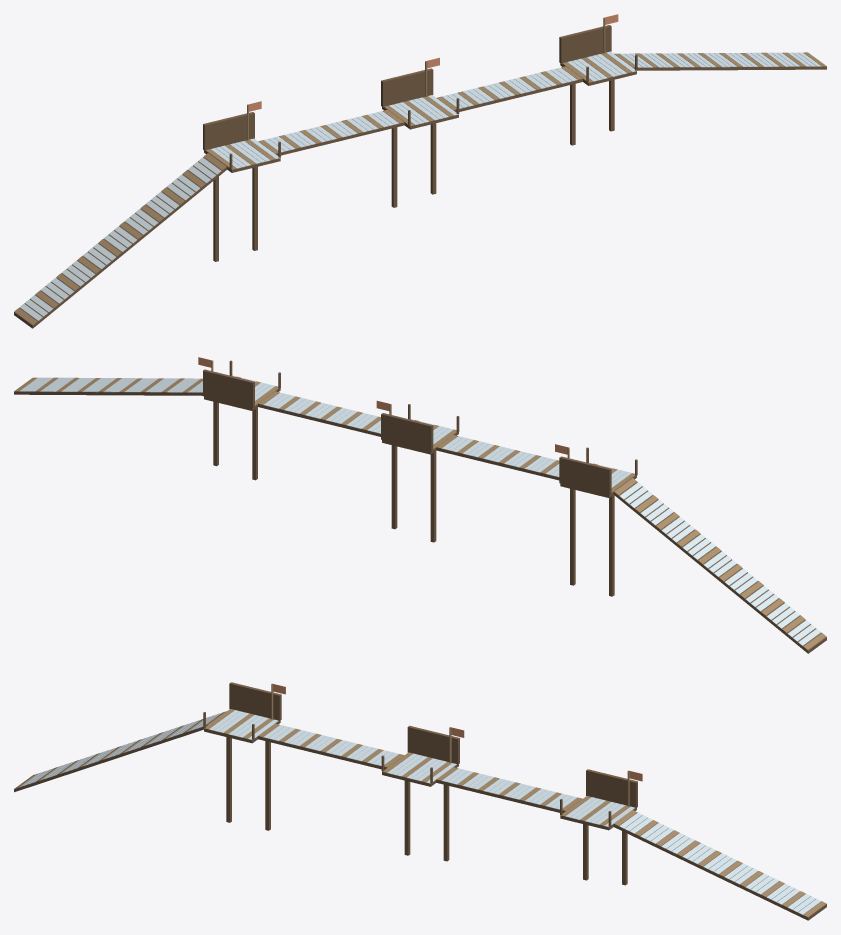
Rendered from wind_walkway.glb.
3 renders of one model, top to bottom at view 1: azimuth 30°, elevation 25°; view 2: azimuth 150°, elevation 25°; view 3: azimuth 330°, elevation 25°, orthographic.
Visible parts, largest first — view 1: EntryRamp, Windbreak_2, Windbreak_1, Windbreak_0, ExitRamp; view 2: EntryRamp, Windbreak_0, Windbreak_1, Windbreak_2, ExitRamp, Support_1_-1.2, Support_0_-1.2, Support_1_1.2, Support_0_1.2; view 3: Windbreak_0, Windbreak_1, Windbreak_2, ExitRamp, EntryRamp, Support_0_1.2, Support_1_1.2, Support_1_-1.2, Support_0_-1.2, SecondSpan, FirstSpan.
Boxes of the visible parts, x1,y1,x2,y2 form: EntryRamp: [14, 153, 227, 328]; Windbreak_2: [559, 25, 611, 63]; Windbreak_1: [381, 68, 433, 107]; Windbreak_0: [203, 112, 254, 150]; ExitRamp: [633, 66, 826, 70]; EntryRamp: [613, 478, 826, 653]; Windbreak_0: [559, 456, 611, 495]; Windbreak_1: [381, 413, 433, 451]; Windbreak_2: [203, 369, 254, 408]; ExitRamp: [14, 391, 202, 395]; Support_1_-1.2: [430, 451, 436, 542]; Support_0_-1.2: [609, 495, 614, 596]; Support_1_1.2: [391, 445, 397, 529]; Support_0_1.2: [570, 488, 575, 585]; Windbreak_0: [229, 682, 281, 720]; Windbreak_1: [407, 725, 459, 764]; Windbreak_2: [586, 769, 637, 807]; ExitRamp: [613, 813, 826, 920]; EntryRamp: [14, 725, 206, 792]; Support_0_1.2: [265, 741, 270, 830]; Support_1_1.2: [443, 784, 449, 861]; Support_1_-1.2: [404, 780, 410, 855]; Support_0_-1.2: [226, 737, 231, 822]; SecondSpan: [436, 780, 565, 813]; FirstSpan: [258, 736, 386, 769].
Bounding box in the file's own units: 49 × 8.89 × 3.02.
